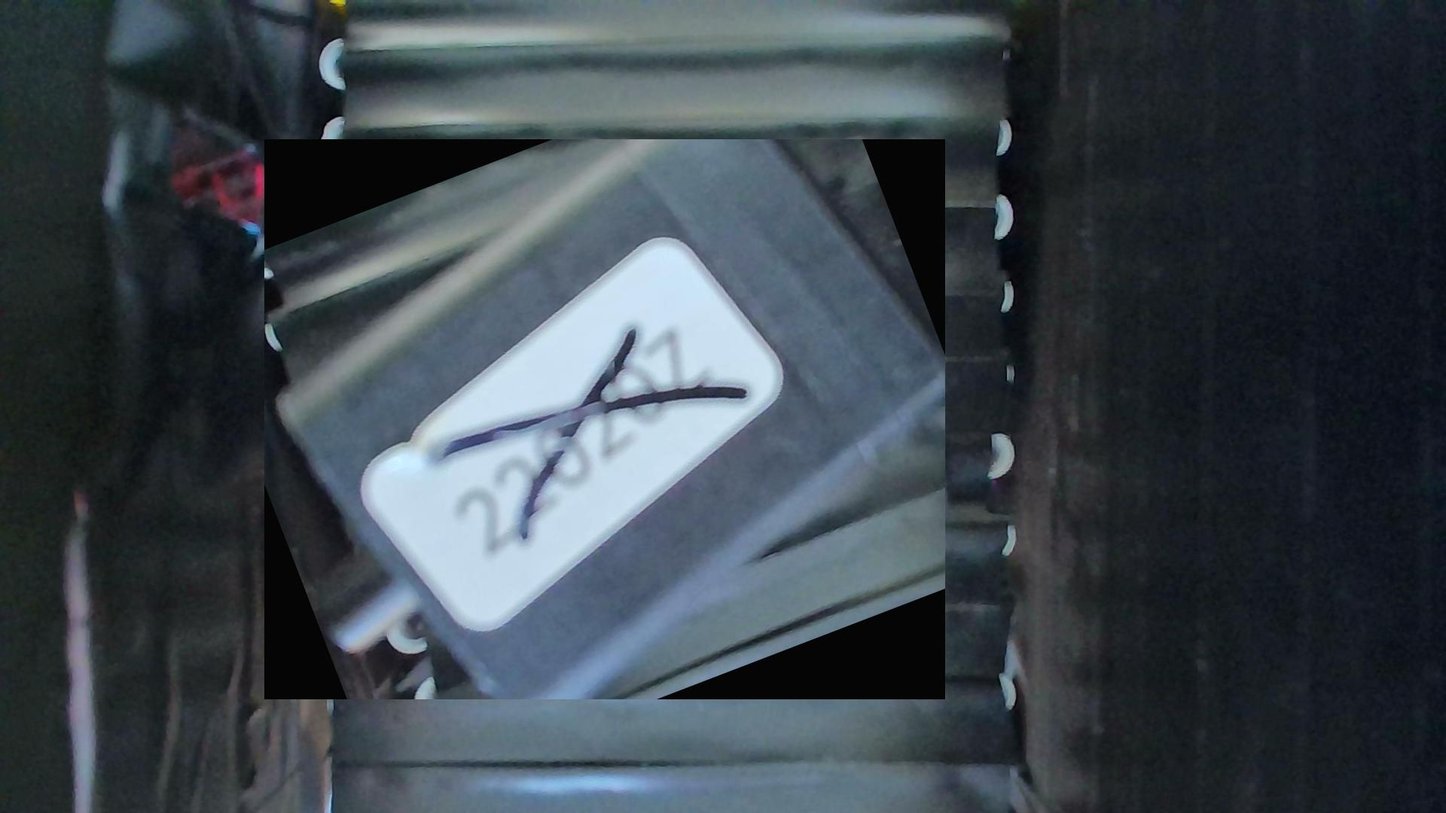motor: (265, 139, 947, 700)
